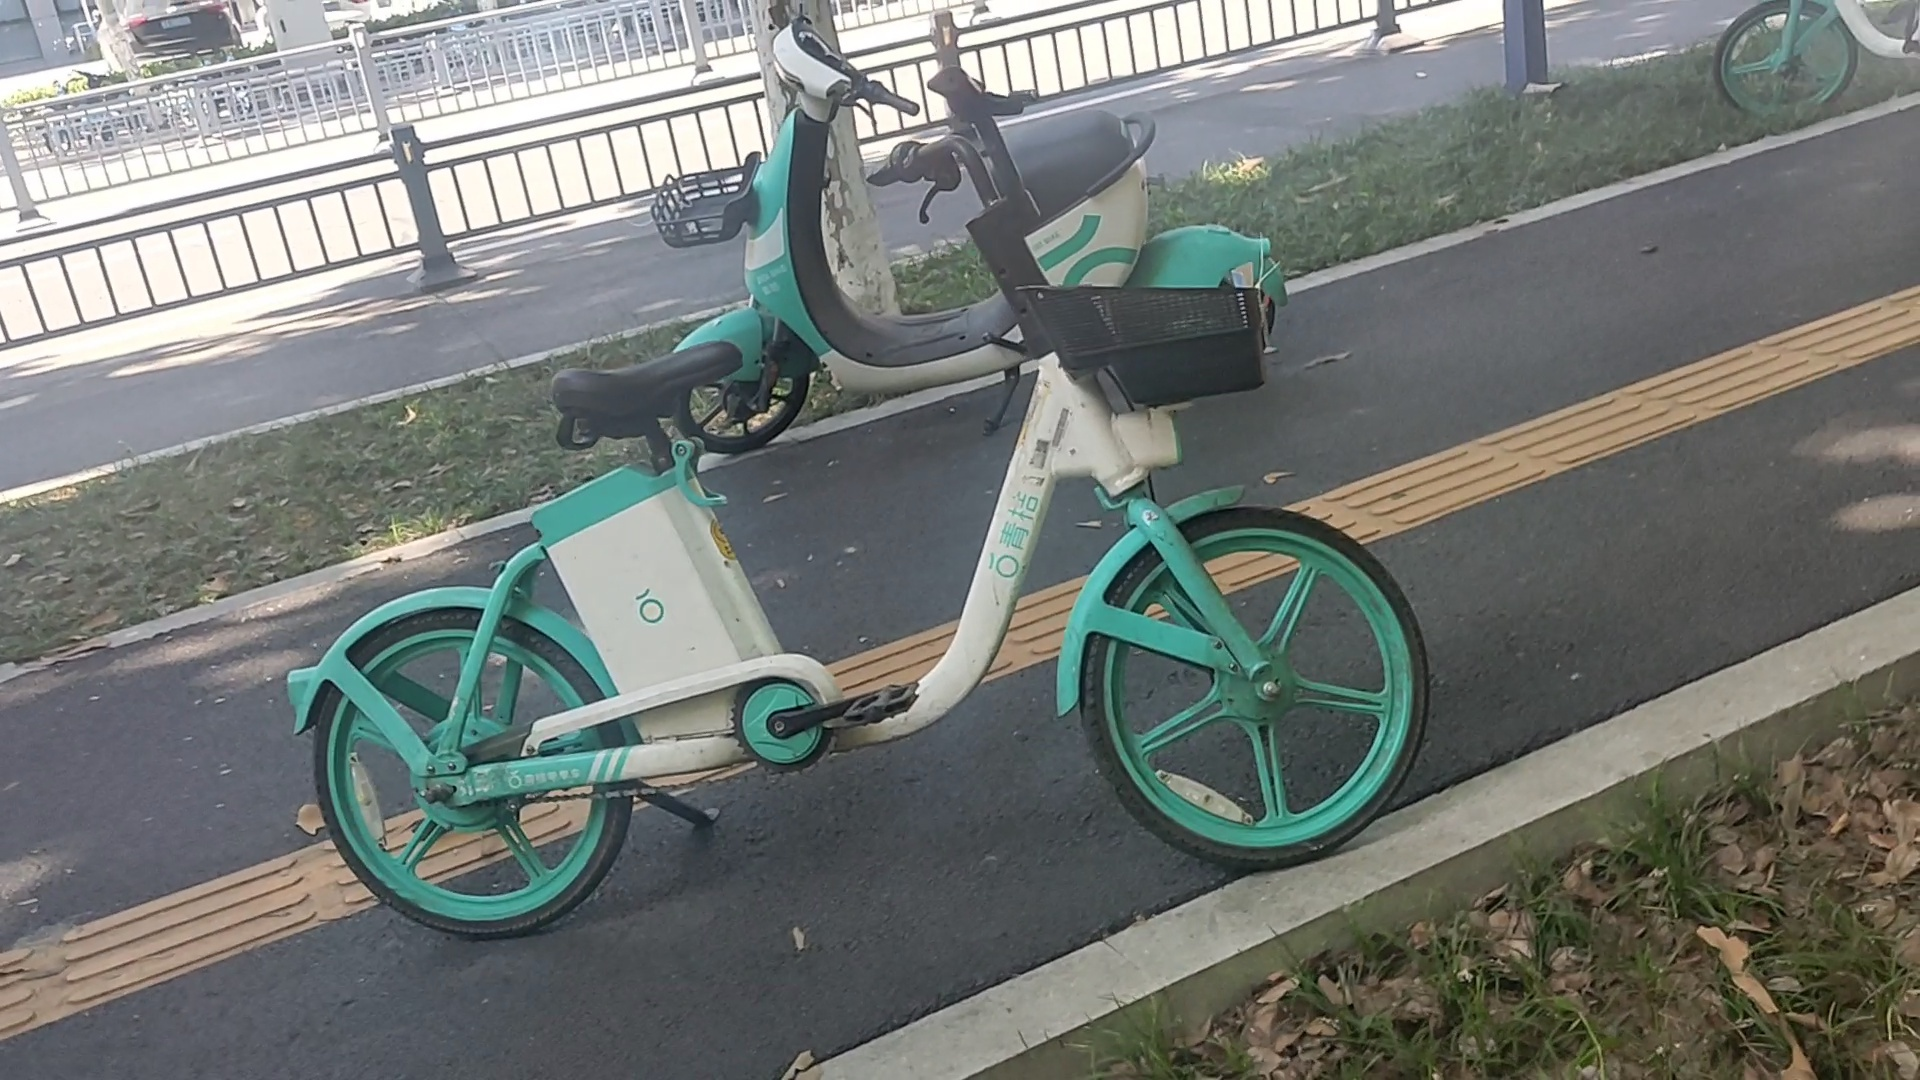non-vehicle: (261, 1, 1443, 975), (640, 1, 1299, 469), (1706, 0, 1919, 125)
